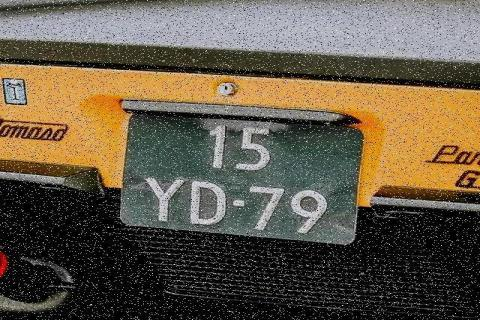LicensePlate: (117, 111, 368, 249)
